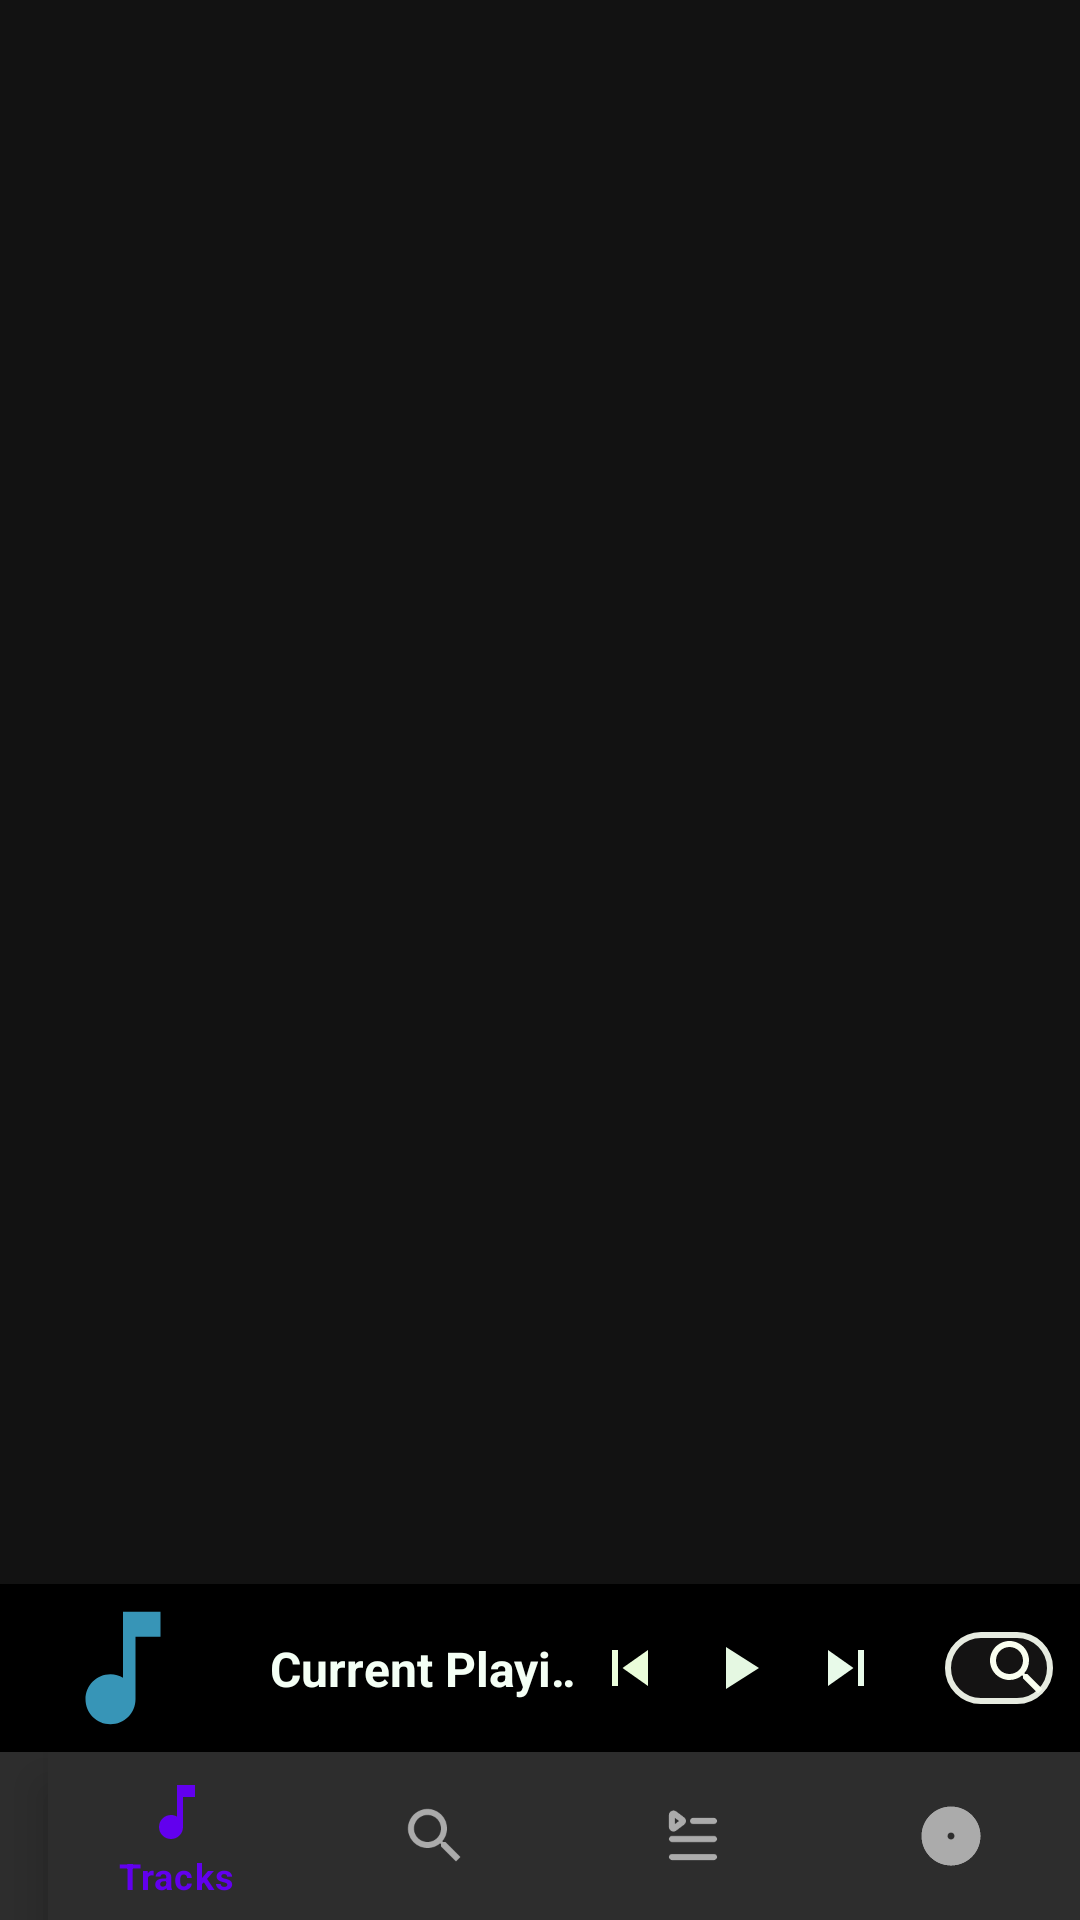

Where icons sit on this 1080w x 1920h app screen, as Rect(x1, y1, x2, y2):
searchview: Rect(945, 1632, 1053, 1704)
